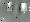person: (22, 5, 28, 16), (8, 4, 13, 15)
